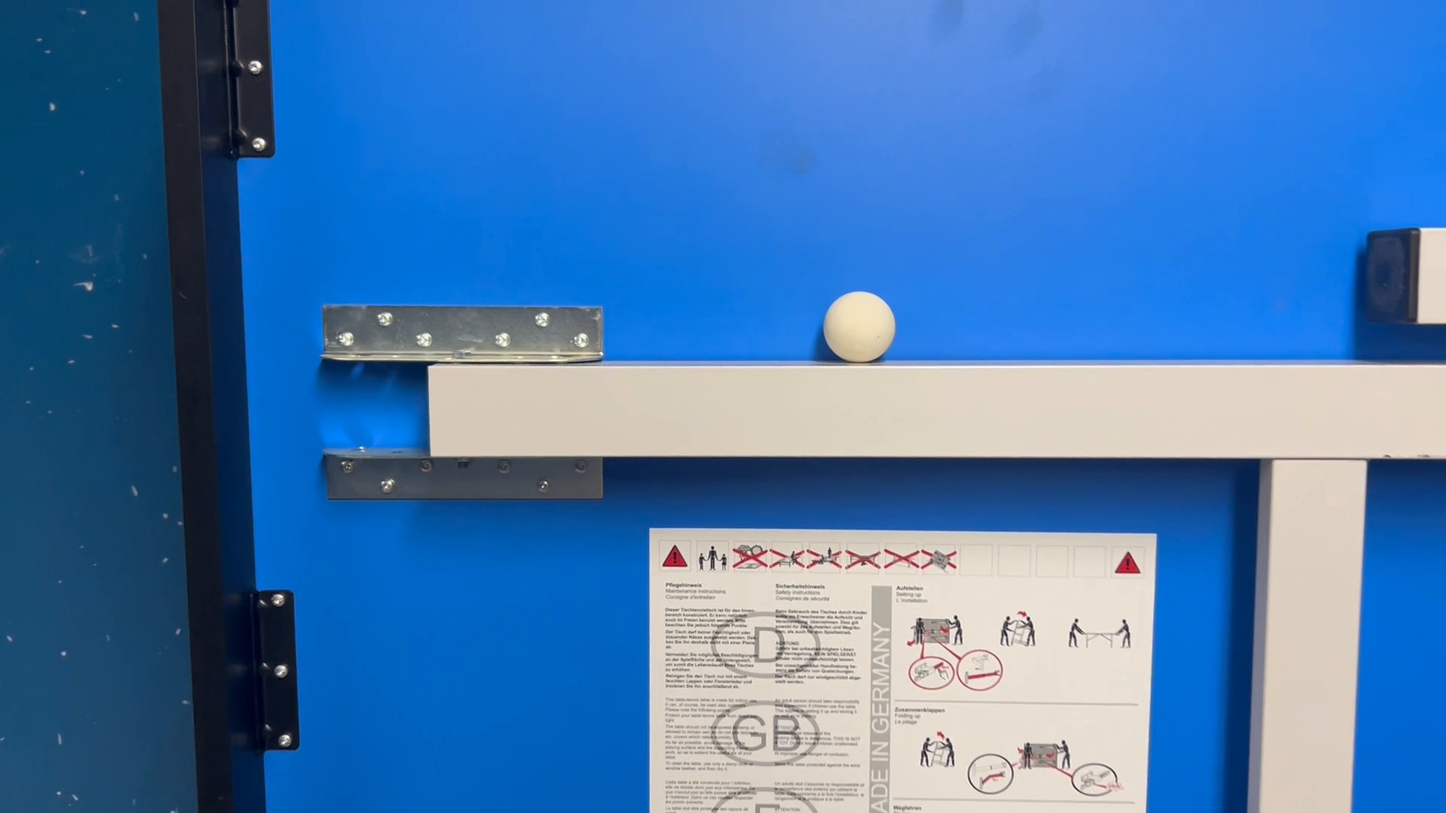Ball: (810, 293, 920, 365)
